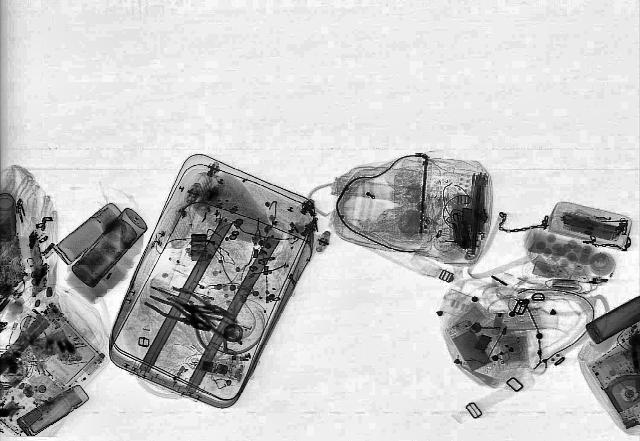Pliers: (138, 292, 218, 336), (162, 285, 236, 323)
